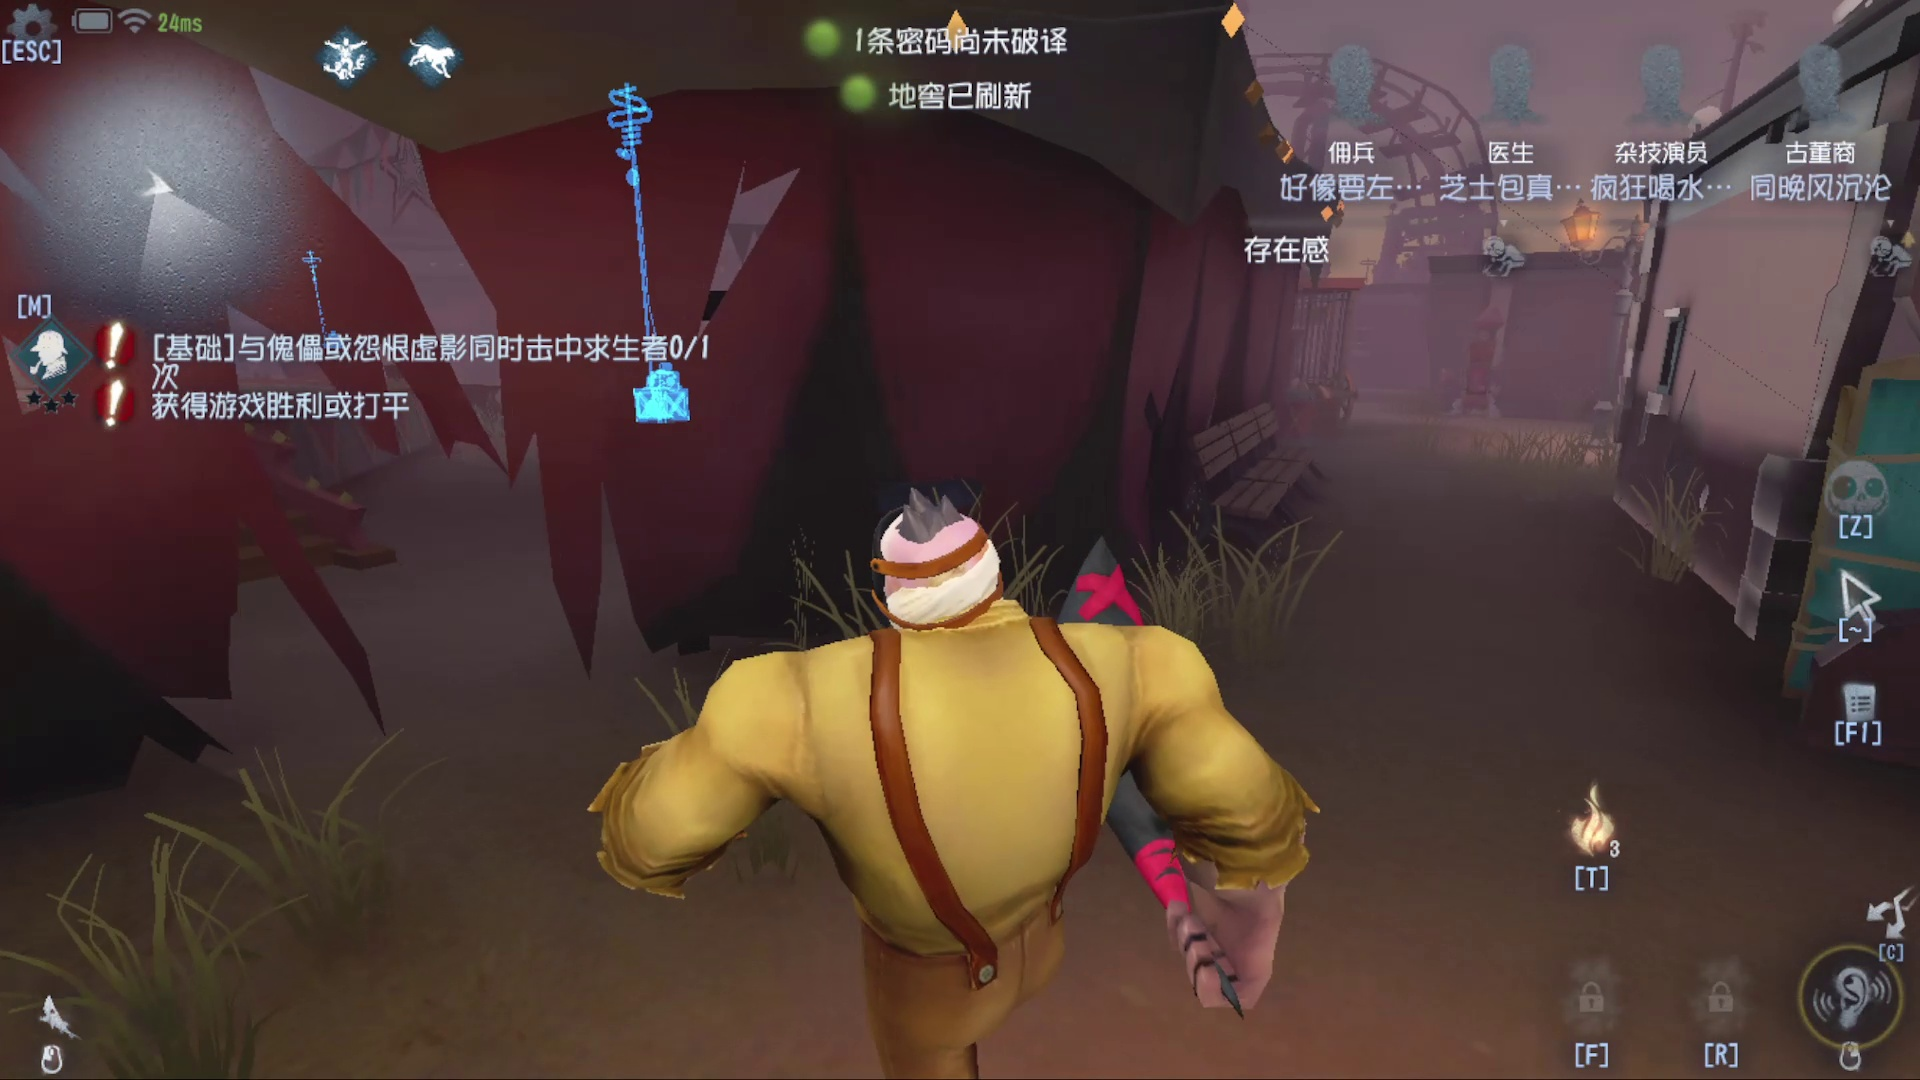密码机: (575, 65, 723, 451), (290, 243, 359, 375)
木板: (1789, 328, 1912, 728)
狂欢之椅: (1443, 276, 1516, 429)
